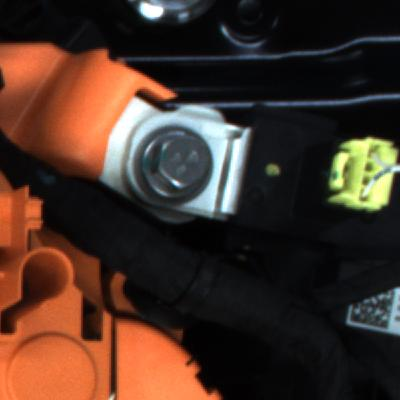nut_b: (130, 124, 219, 215)
